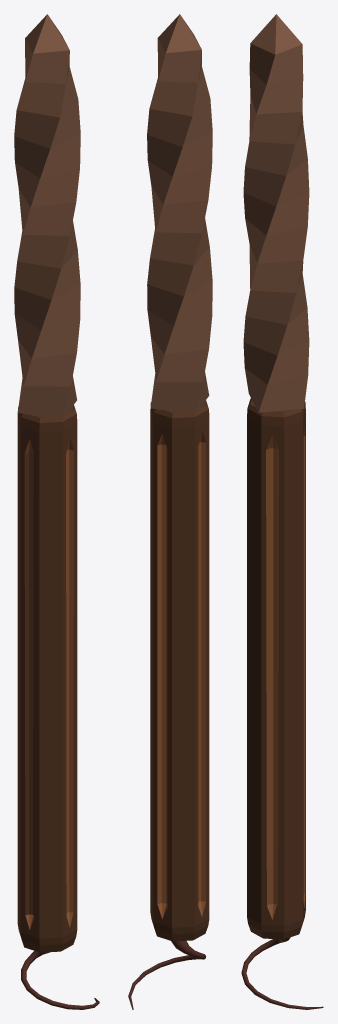
Rendered from Wand 559.glb.
The picture shows the model from 3 angles, left to right: view 1: azimuth 30°, elevation 25°; view 2: azimuth 210°, elevation 25°; view 3: azimuth 330°, elevation 25°; orthographic projection.
Parts seen in each view (by area): view 1: GeneratedWand; view 2: GeneratedWand; view 3: GeneratedWand.
Part boxes in pixels (x1,y1,x2,y2): GeneratedWand: [14, 14, 99, 1009]; GeneratedWand: [128, 14, 212, 1009]; GeneratedWand: [241, 14, 323, 1009].
Bounding box in the file's own units: 0.0413 × 0.513 × 0.0358.
